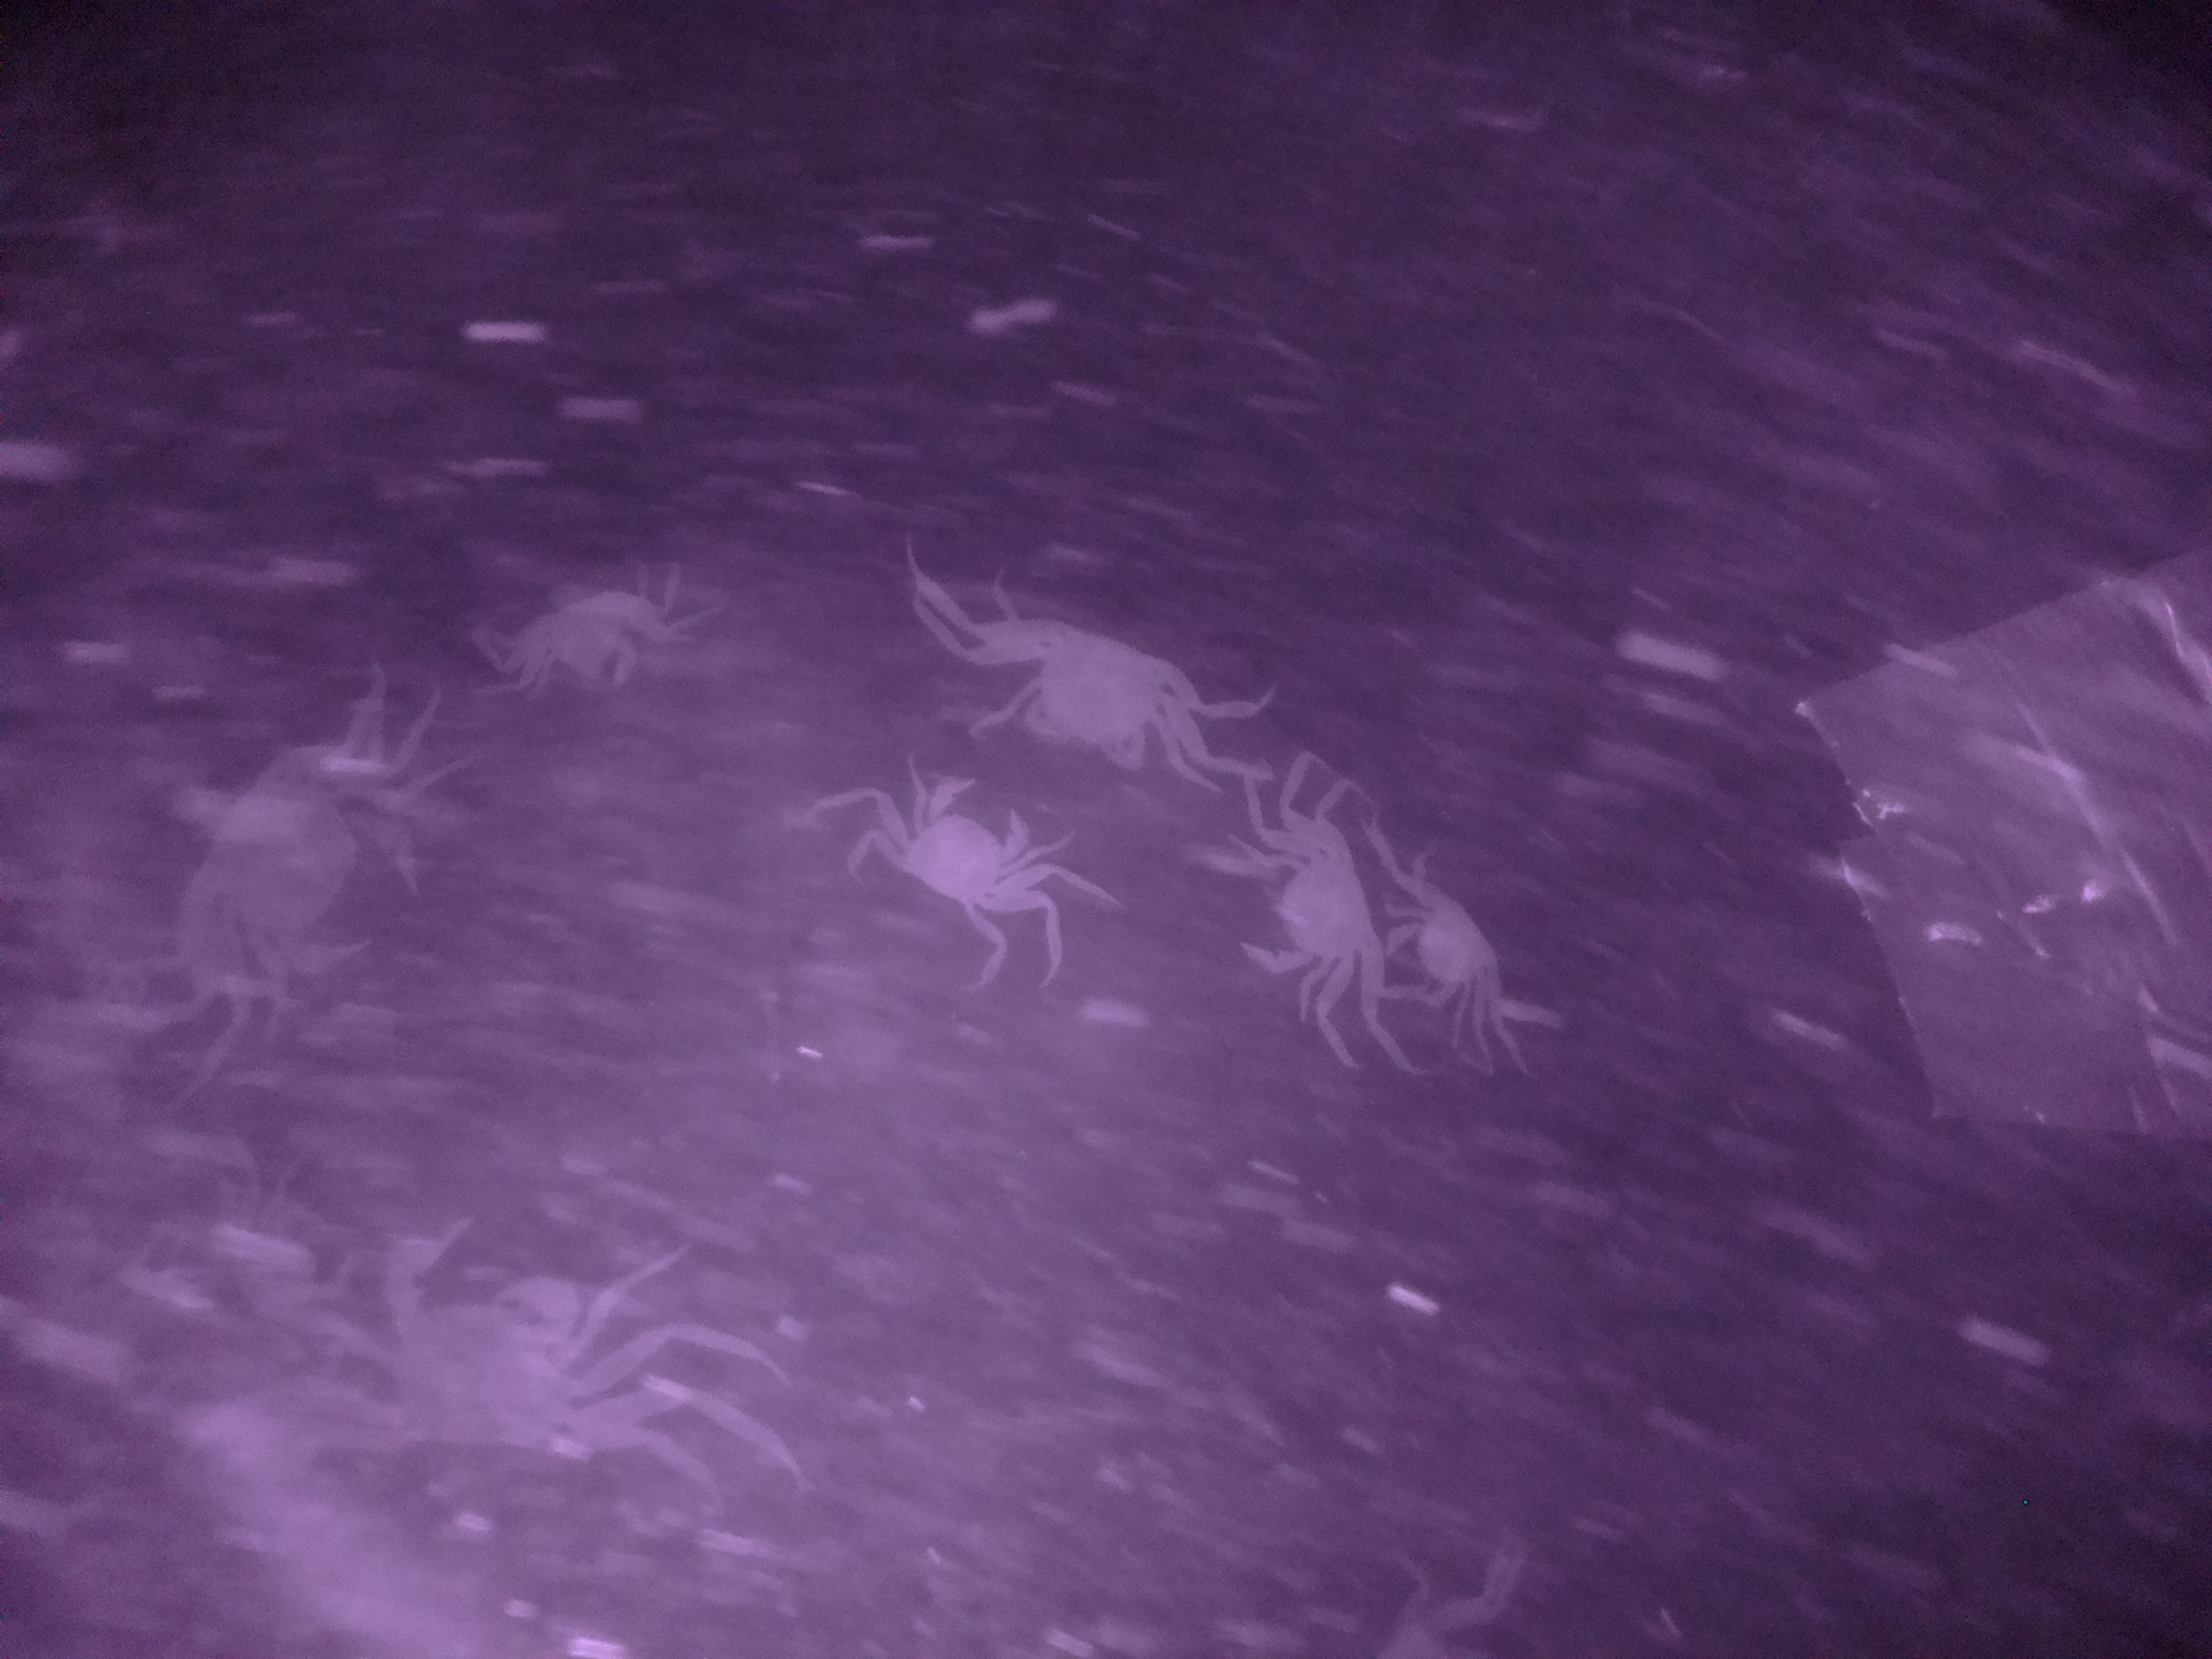Crab: (977, 596, 1186, 786), (873, 749, 1062, 943), (1223, 819, 1392, 999), (1381, 889, 1524, 1030)
